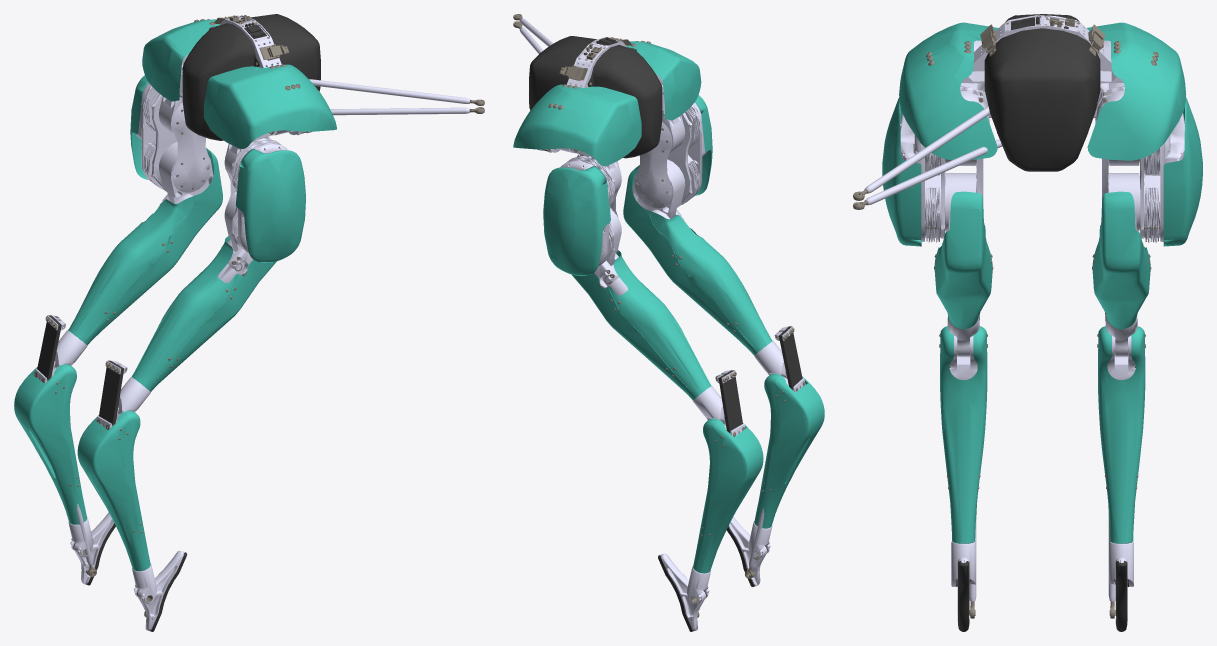
The model's file is cassie.fbx.
3 views of the same model, side by side, from view 1: azimuth 30°, elevation 25°; view 2: azimuth 150°, elevation 25°; view 3: azimuth 270°, elevation 25° (orthographic). The views are drawn at different scales.
Visible parts, largest first — view 1: cassie_pelvis, left_shin, right_shin, right_hip_pitch, right_tarsus, left_tarsus, left_hip_pitch, right_foot, left_achilles_rod, right_heel_spring, right_achilles_rod, left_foot (+2 smaller); view 2: cassie_pelvis, right_shin, left_shin, left_hip_pitch, left_tarsus, right_tarsus, right_hip_pitch, left_foot, left_heel_spring, right_foot, right_heel_spring, right_knee (+1 smaller); view 3: cassie_pelvis, right_tarsus, left_tarsus, left_hip_pitch, left_shin, right_shin, right_hip_pitch, left_achilles_rod, right_achilles_rod, right_foot, left_foot, right_knee (+1 smaller).
Boxes of the visible parts, box(x1,y1,x2,y2) form: cassie_pelvis: box(142, 14, 336, 148); left_shin: box(53, 148, 222, 369); right_shin: box(116, 236, 276, 418); right_hip_pitch: box(227, 138, 305, 262); right_tarsus: box(77, 410, 156, 603); left_tarsus: box(14, 364, 93, 557); left_hip_pitch: box(130, 75, 211, 192); right_foot: box(136, 550, 187, 631); left_achilles_rod: box(309, 79, 484, 105); right_heel_spring: box(99, 360, 127, 425); right_achilles_rod: box(330, 107, 484, 115); left_foot: box(73, 512, 115, 585); cassie_pelvis: box(513, 36, 701, 165); right_shin: box(623, 165, 787, 378); left_shin: box(571, 250, 726, 426); left_hip_pitch: box(543, 155, 618, 275); left_tarsus: box(687, 418, 763, 604); right_tarsus: box(748, 373, 824, 559); right_hip_pitch: box(634, 95, 712, 208); left_foot: box(658, 553, 706, 631); left_heel_spring: box(715, 370, 742, 432); right_foot: box(726, 516, 767, 586); right_heel_spring: box(774, 326, 802, 389); right_knee: box(632, 159, 685, 218); cassie_pelvis: box(899, 14, 1186, 171); right_tarsus: box(939, 326, 987, 586); left_tarsus: box(1097, 326, 1145, 586); left_hip_pitch: box(1102, 97, 1202, 246); left_shin: box(1092, 191, 1151, 356); right_shin: box(934, 191, 993, 356); right_hip_pitch: box(882, 97, 983, 246); left_achilles_rod: box(853, 106, 990, 200); right_achilles_rod: box(853, 139, 1002, 209); right_foot: box(956, 557, 970, 631); left_foot: box(1114, 557, 1128, 631); right_knee: box(945, 173, 975, 231).
Bounding box in the file's own units: 84.66 × 126 × 57.81.
Materials: 25 (25 with a texture image).
